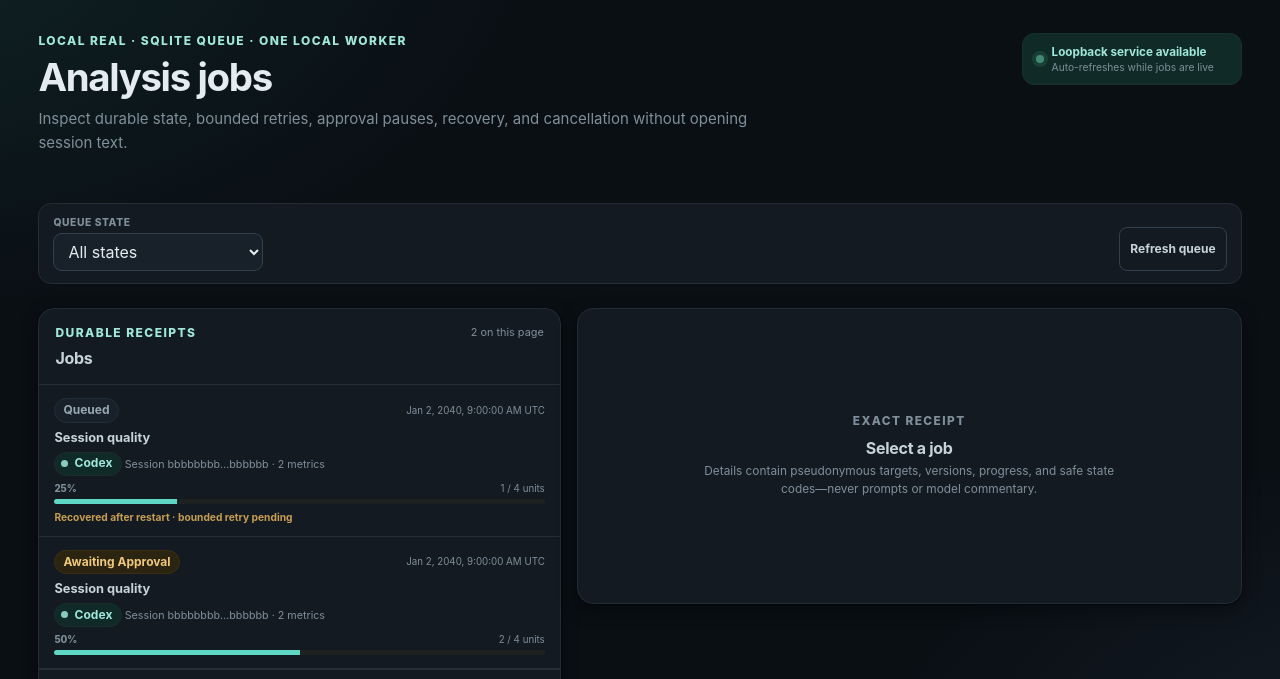
Test case: AnalysisJobCentre › presents recovered retry timing and awaiting-approval boundaries without claiming execution
The image size is (1280, 679).
Expected: the text "2 on this page" is shown, top-left (471, 325), bottom-right (544, 339)
Click the button with class "analysis-job-card" that starts with "Queued" at (300, 461), box top-left (39, 385), bottom-right (560, 536)
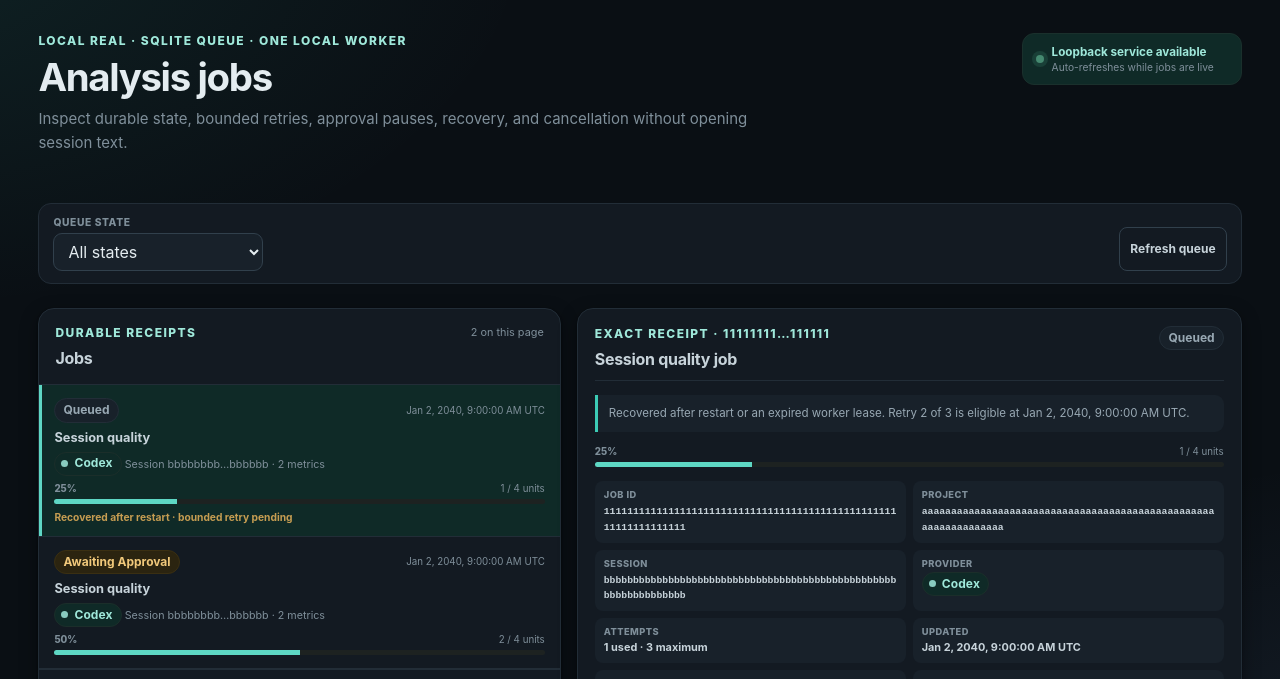
Expected: the text "Recovered after restart or an expired worker lease" is shown, top-left (609, 406), bottom-right (1190, 420)
Click the button with class "analysis-job-card" that starts with "Awaiting approval" at (117, 562), box top-left (39, 536), bottom-right (560, 669)
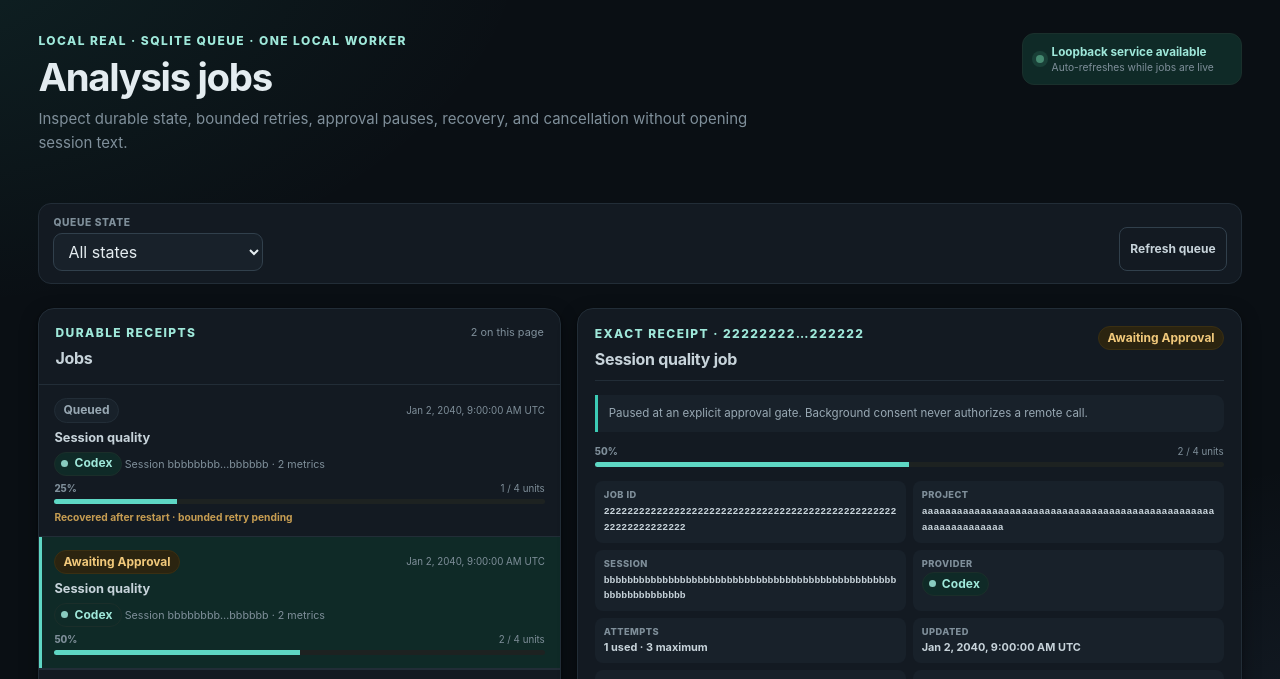
Expected: the text "background consent never authorizes a remote call" is shown, top-left (609, 406), bottom-right (1088, 420)
